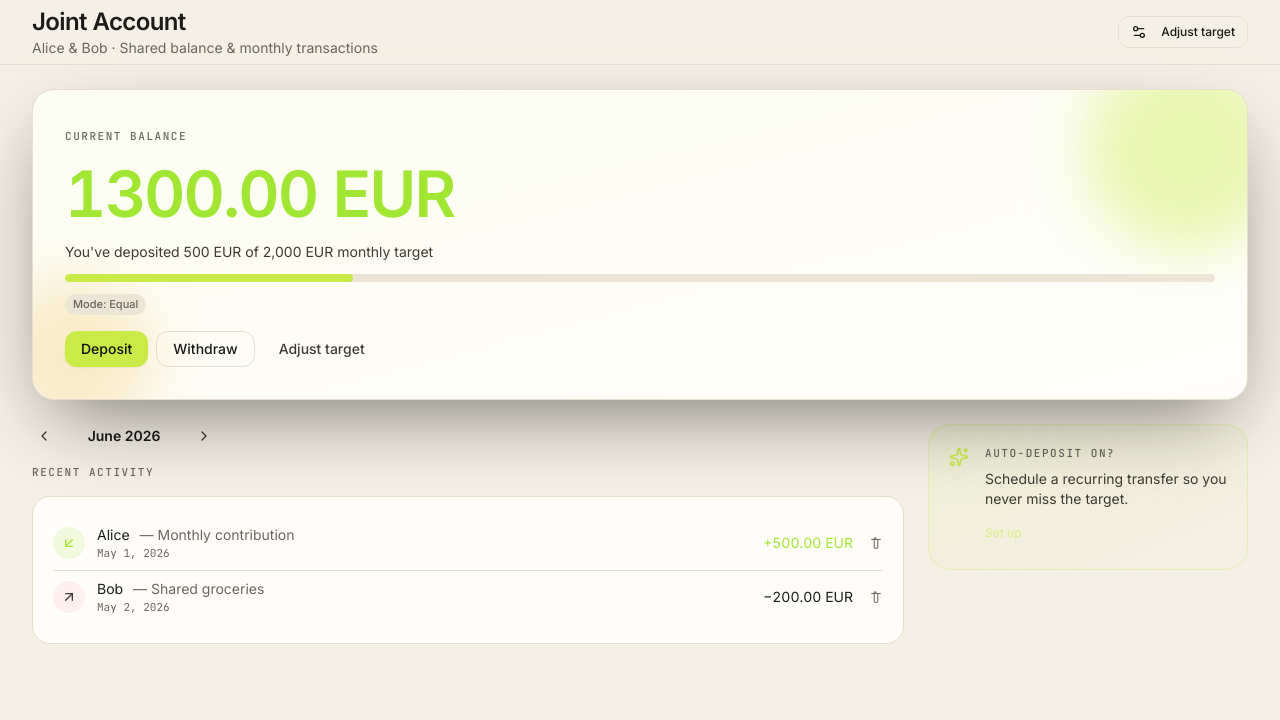
<AccountPage /> flows › L.2 — Deposit button opens AddTransactionForm in deposit mode
Click the button "Deposit" at point(107, 348), box [65,330,148,366]
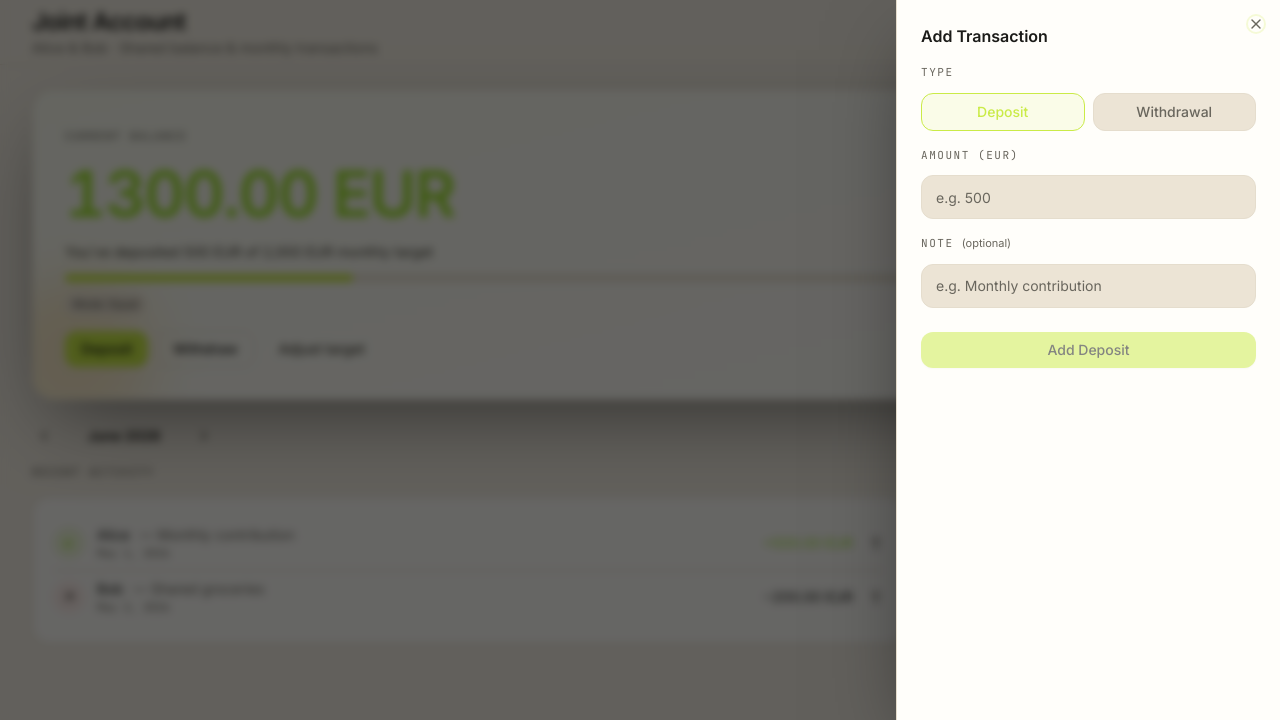
Expected: the button "Add Deposit" is shown, [921,332,1256,368]
